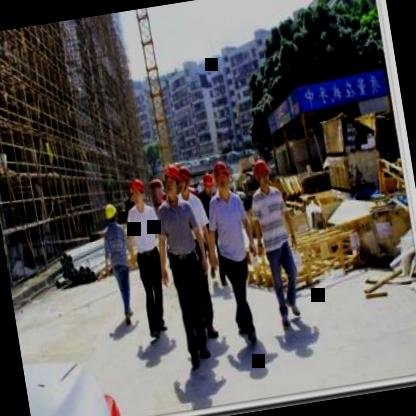helmet: (208, 156, 235, 198), (158, 160, 183, 202), (247, 154, 274, 192), (176, 161, 196, 201), (126, 173, 147, 208), (100, 198, 122, 229), (197, 166, 218, 194)
